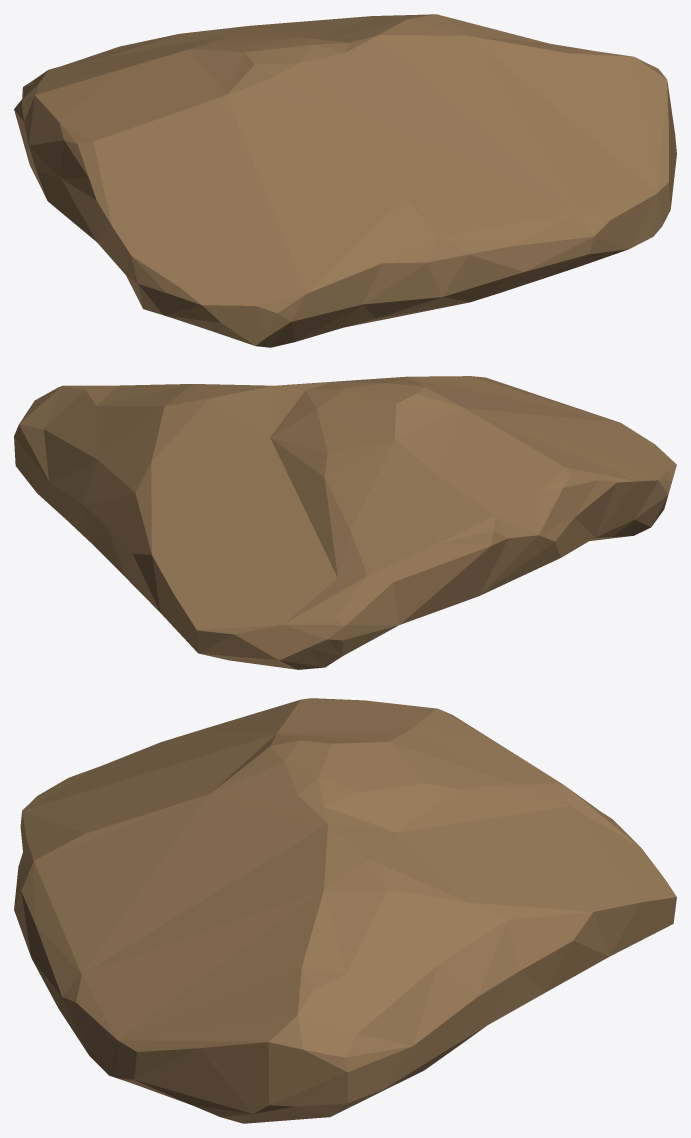
Rendered from zone2-s1.glb.
The picture shows the model from 3 angles, top to bottom: view 1: azimuth 30°, elevation 25°; view 2: azimuth 150°, elevation 25°; view 3: azimuth 270°, elevation 25°; orthographic projection. The views are drawn at different scales.
Parts seen in each view (by area): view 1: rock-sandstone-flat-c.001; view 2: rock-sandstone-flat-c.001; view 3: rock-sandstone-flat-c.001.
Part boxes in pixels (bbox=[...]): rock-sandstone-flat-c.001: bbox=[14, 14, 676, 347]; rock-sandstone-flat-c.001: bbox=[14, 376, 676, 669]; rock-sandstone-flat-c.001: bbox=[14, 698, 676, 1123].
Bounding box in the file's own units: 27.91 × 8.39 × 26.16.
